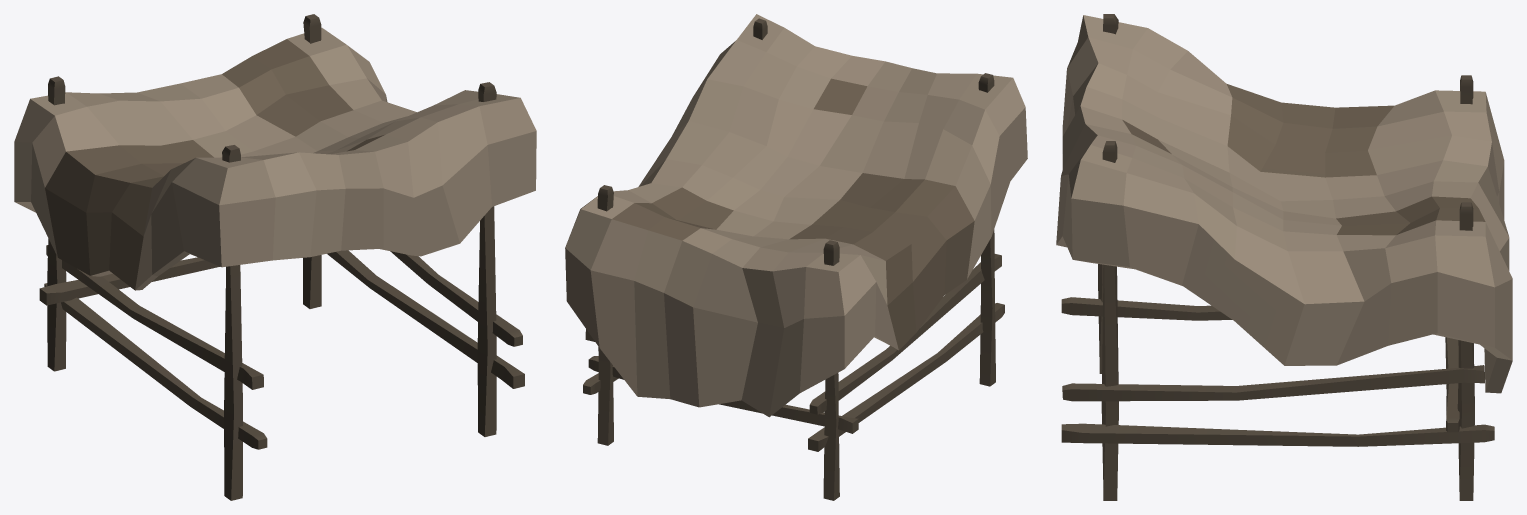
File: SM_Bld_Tent_01.glb
3 renders of one model, left to right at view 1: azimuth 30°, elevation 25°; view 2: azimuth 150°, elevation 25°; view 3: azimuth 270°, elevation 25°, orthographic. The views are drawn at different scales.
Parts seen in each view (by area): view 1: SM_Bld_Tent_01; view 2: SM_Bld_Tent_01; view 3: SM_Bld_Tent_01.
Part boxes in pixels (x1,y1,x2,y2): SM_Bld_Tent_01: (14,14,536,500); SM_Bld_Tent_01: (565,14,1027,500); SM_Bld_Tent_01: (1056,14,1512,500).
Size of the model in its own units: 0.0279 by 0.0269 by 0.0313.
Materials: 1 (1 with a texture image).
